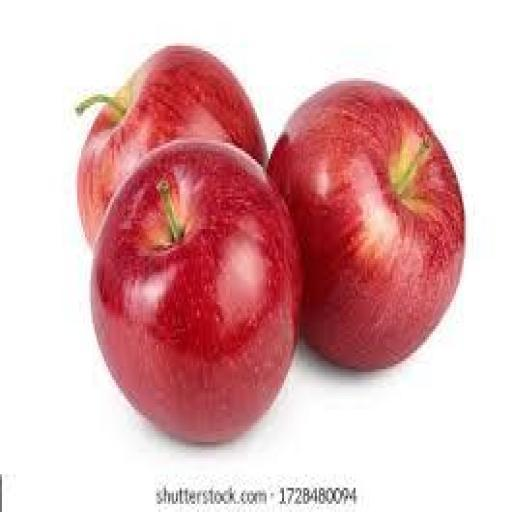apple: (91, 141, 301, 441), (269, 81, 463, 369), (78, 46, 266, 245)
